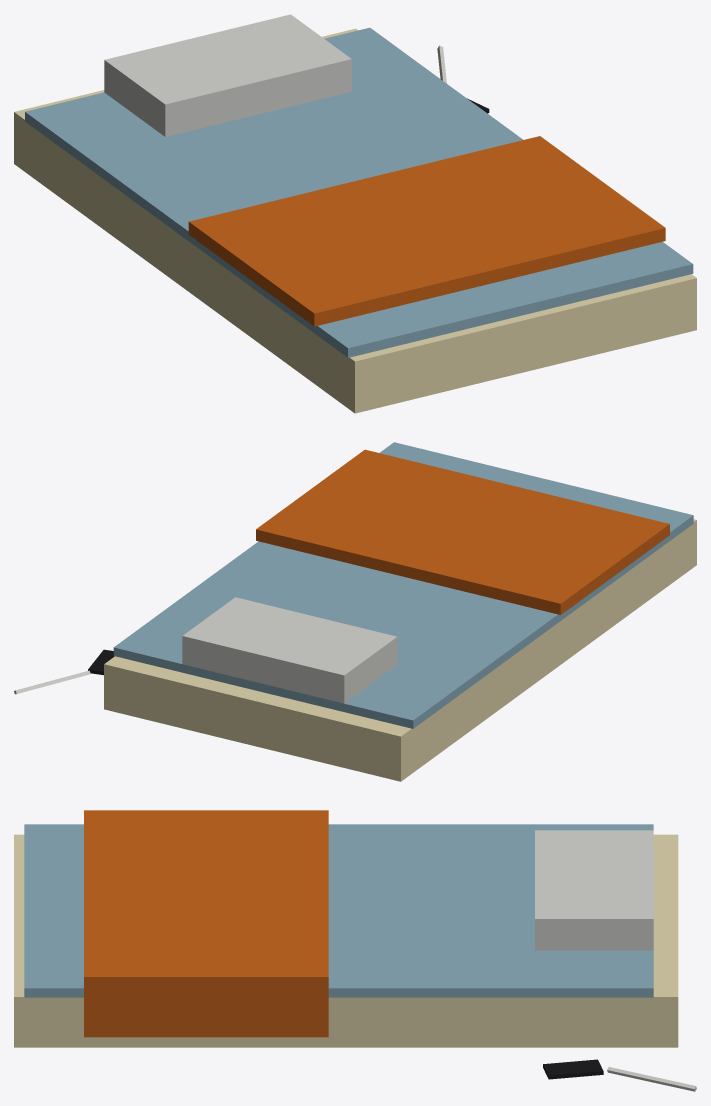
File: prop_mattress.d14c6f0efb5b.glb
3 views of the same model, one above another, from view 1: azimuth 30°, elevation 25°; view 2: azimuth 150°, elevation 25°; view 3: azimuth 270°, elevation 25° (orthographic). The views are drawn at different scales.
Parts seen in each view (by area): view 1: body; view 2: body; view 3: body.
Boxes of the visible parts, <box> form: body: <box>14,14,696,413</box>; body: <box>14,442,696,781</box>; body: <box>14,810,696,1091</box>.
Bounding box in the file's own units: 1.42 × 0.29 × 1.95.
